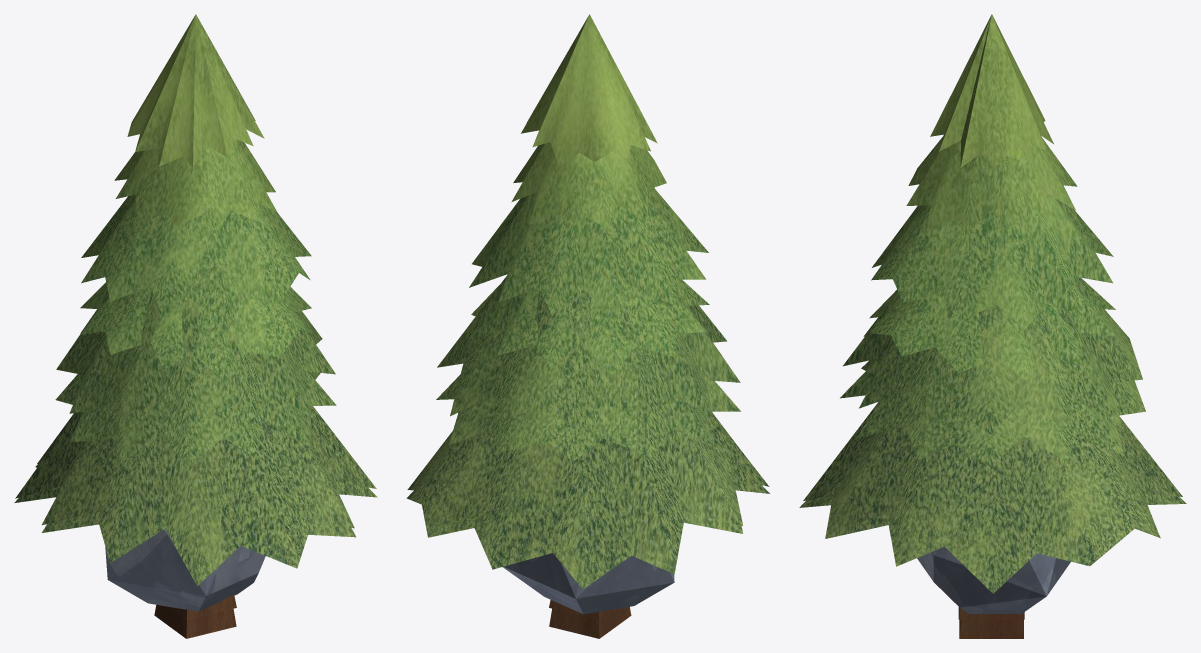
File: naturaleza.glb
3 views of the same model, side by side, from view 1: azimuth 30°, elevation 25°; view 2: azimuth 150°, elevation 25°; view 3: azimuth 270°, elevation 25° (orthographic).
Parts seen in each view (by area): view 1: pino_2_copa, pino_1_copa, roca_1, pino_2_tronco, pino_1_tronco; view 2: pino_2_copa, pino_1_copa, roca_1, pino_2_tronco; view 3: pino_2_copa, pino_1_copa, roca_1, pino_2_tronco.
Boxes of the visible parts, box(x1,y1,x2,y2) form: pino_2_copa: box(15, 14, 376, 579); pino_1_copa: box(14, 282, 377, 586); roca_1: box(105, 529, 265, 611); pino_2_tronco: box(154, 605, 236, 638); pino_1_tronco: box(169, 594, 236, 619); pino_2_copa: box(407, 14, 769, 583); pino_1_copa: box(406, 279, 769, 589); roca_1: box(503, 553, 674, 614); pino_2_tronco: box(549, 607, 631, 638); pino_2_copa: box(803, 14, 1182, 590); pino_1_copa: box(799, 238, 1186, 593); roca_1: box(917, 546, 1070, 613); pino_2_tronco: box(959, 619, 1023, 638).
Bounding box in the file's own units: 1.34 × 2.51 × 1.44.
5 materials, 5 textured.
